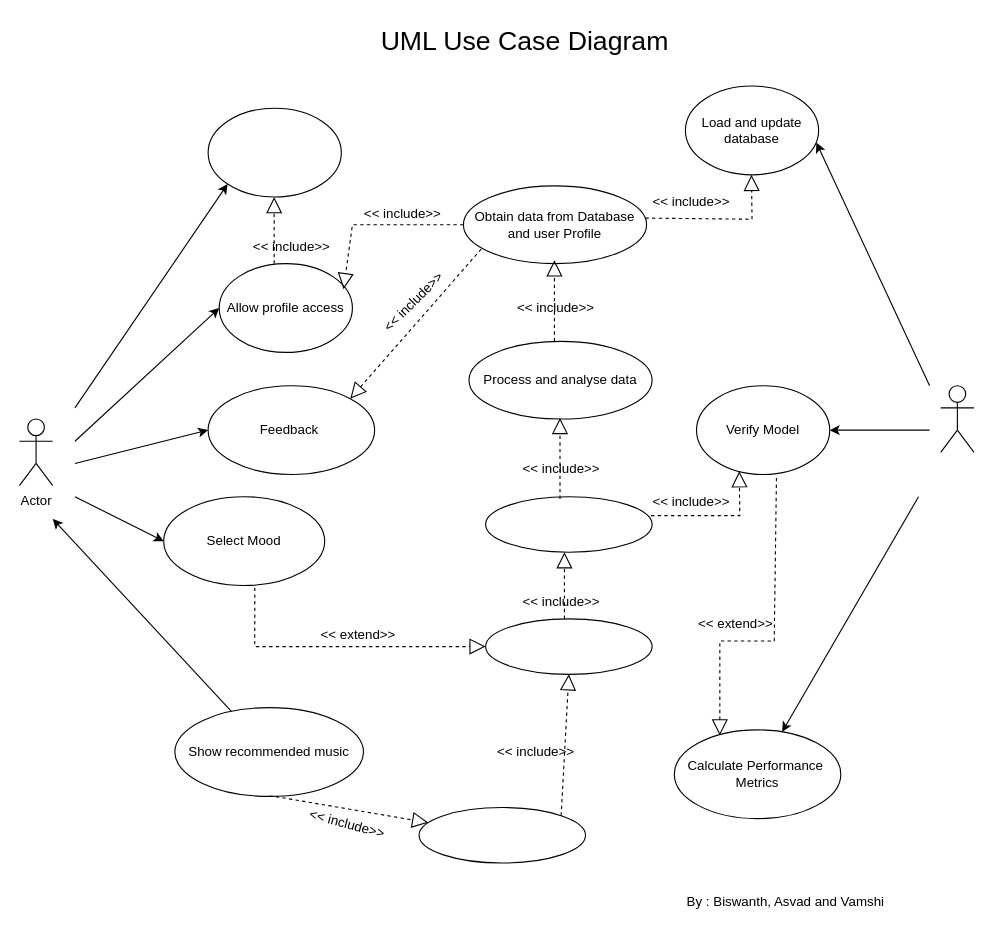
The diagram is 996 pixels wide and 937 high, and some of its shapes have lost their labels. The shapes that lost their labels are listed below. From the top down, each one's centre as x and y in pixels, then its label:
At [274,152]: "Login".
At [957,418]: "Admin".
At [568,524]: "Create model".
At [568,646]: "Predict Mood".
At [502,834]: "Recommend Music".
